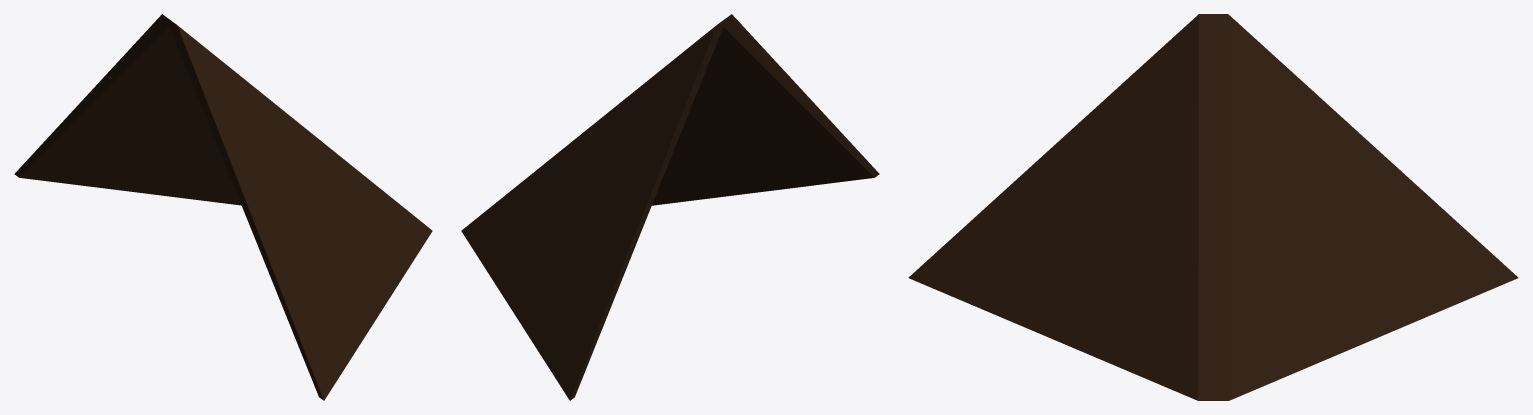
Rendered from RoofAngled_DP_0910.fbx.
The picture shows the model from 3 angles, left to right: view 1: azimuth 30°, elevation 25°; view 2: azimuth 150°, elevation 25°; view 3: azimuth 270°, elevation 25°; orthographic projection.
Parts seen in each view (by area): view 1: Roof.001; view 2: Roof.001; view 3: Roof.001.
Boxes of the visible parts, bbox=[...] form: Roof.001: bbox=[14, 14, 432, 400]; Roof.001: bbox=[461, 14, 879, 400]; Roof.001: bbox=[908, 14, 1518, 400].
Bounding box in the file's own units: 400 × 401 × 840.
